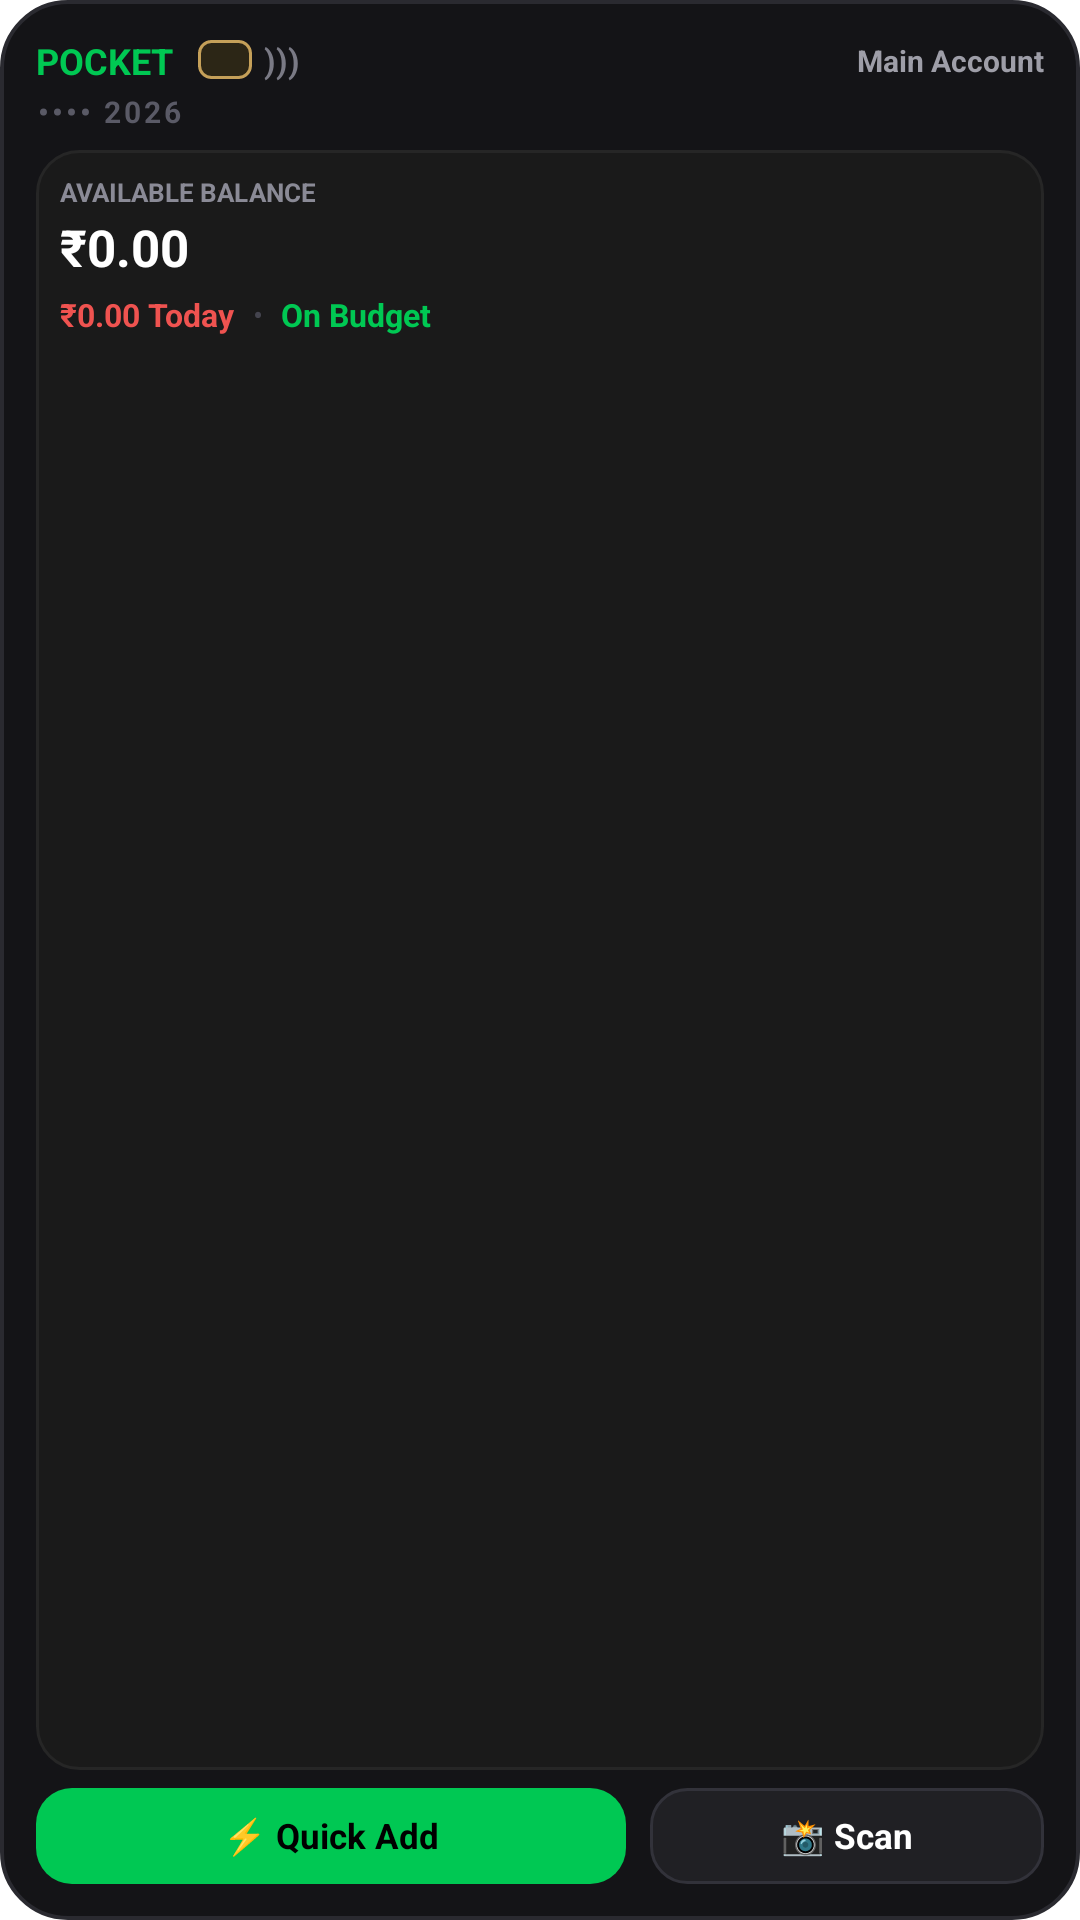

Named icons in this screenshot (1080 × 1920) and their centers, [x,y]:
widget chip emv: [225,59]
